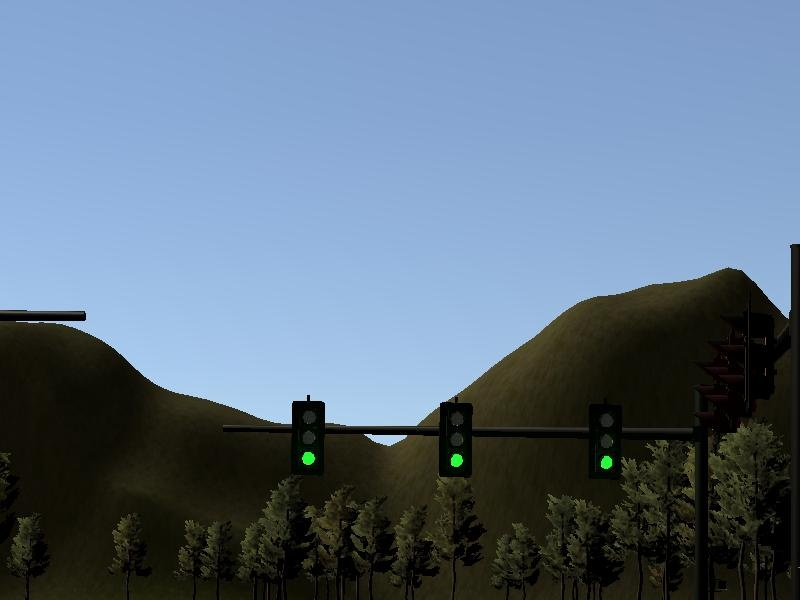GREEN: (290, 400, 325, 477), (439, 402, 474, 475), (589, 406, 622, 480)
